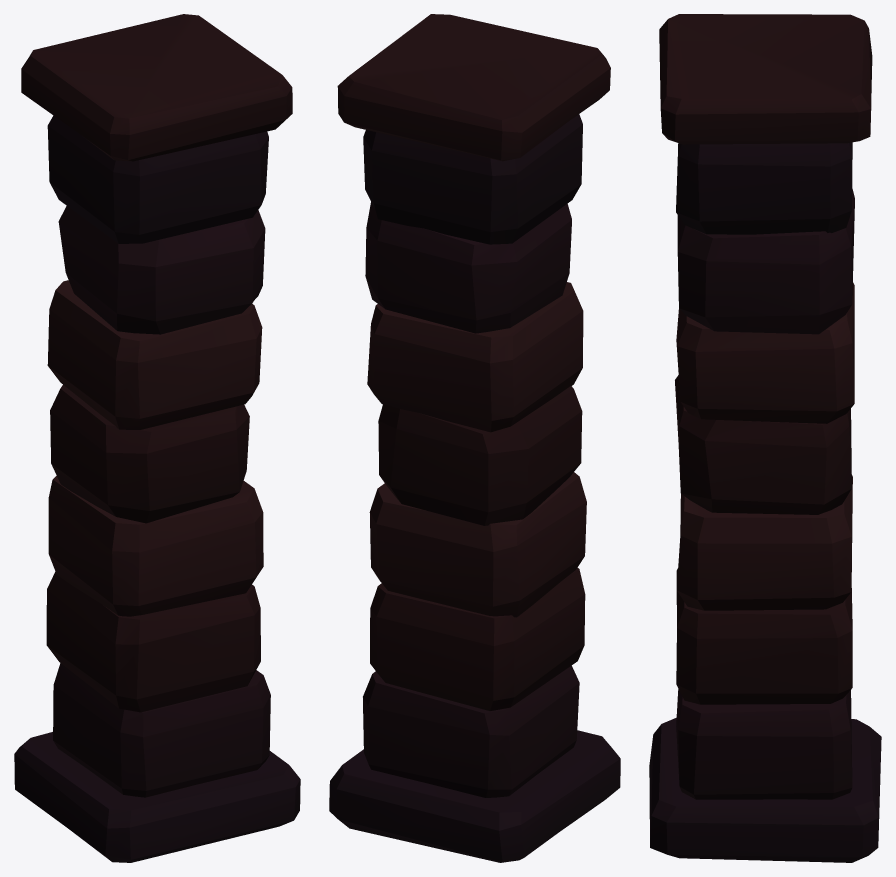
The model's file is Pillar.fbx.
3 renders of one model, left to right at view 1: azimuth 30°, elevation 25°; view 2: azimuth 150°, elevation 25°; view 3: azimuth 270°, elevation 25°, orthographic. The views are drawn at different scales.
Parts seen in each view (by area): view 1: RuinsMasonry.RuinsMasonry; view 2: RuinsMasonry.RuinsMasonry; view 3: RuinsMasonry.RuinsMasonry.
Boxes of the visible parts, x1,y1,x2,y2 form: RuinsMasonry.RuinsMasonry: (14, 14, 300, 862); RuinsMasonry.RuinsMasonry: (329, 14, 620, 862); RuinsMasonry.RuinsMasonry: (649, 14, 881, 862).
Size of the model in its own units: 0.9485 by 3.44 by 0.9483.
